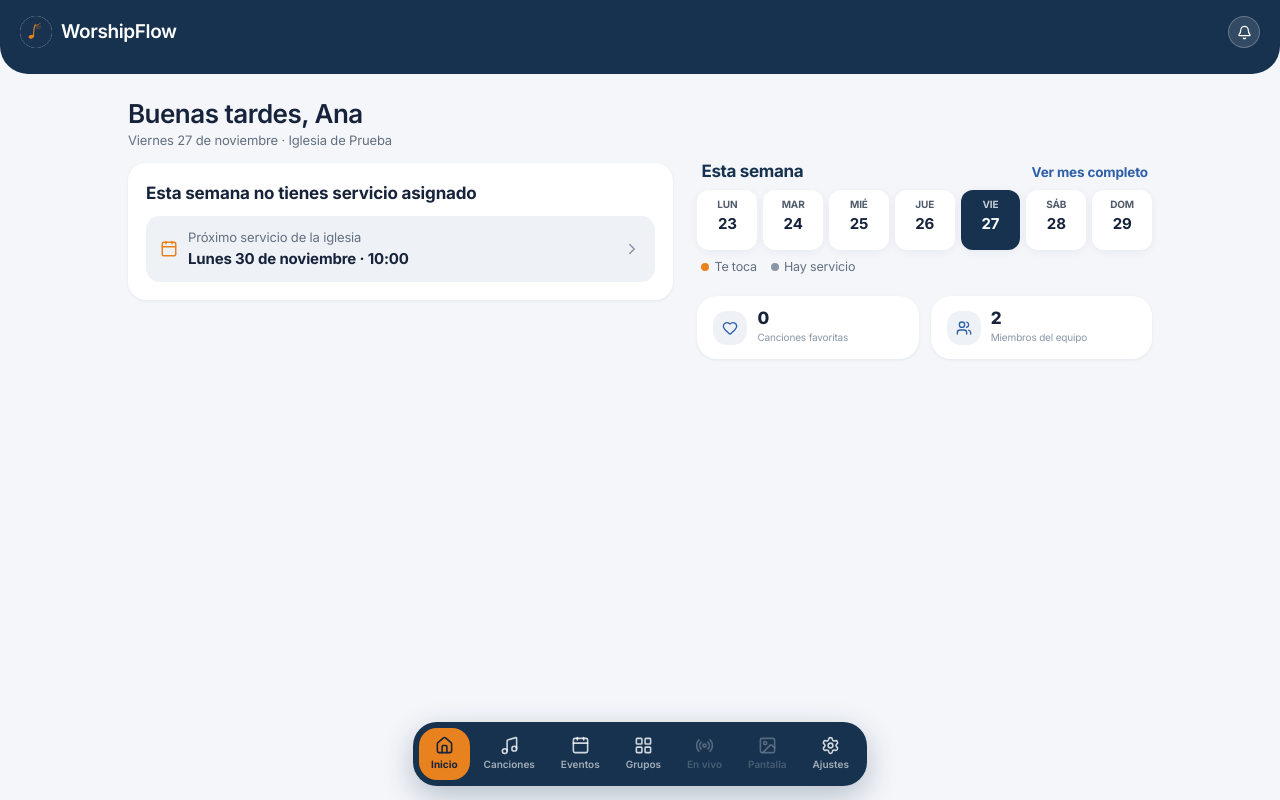
Test: ¿abre la pantalla? › abre una canción
The width and height of the screenshot is (1280, 800).
Expected: the text "Miembros del equipo" is shown, [991,330,1087,345]
Click the button "Canciones".
click(509, 754)  # box [472,728,547,780]
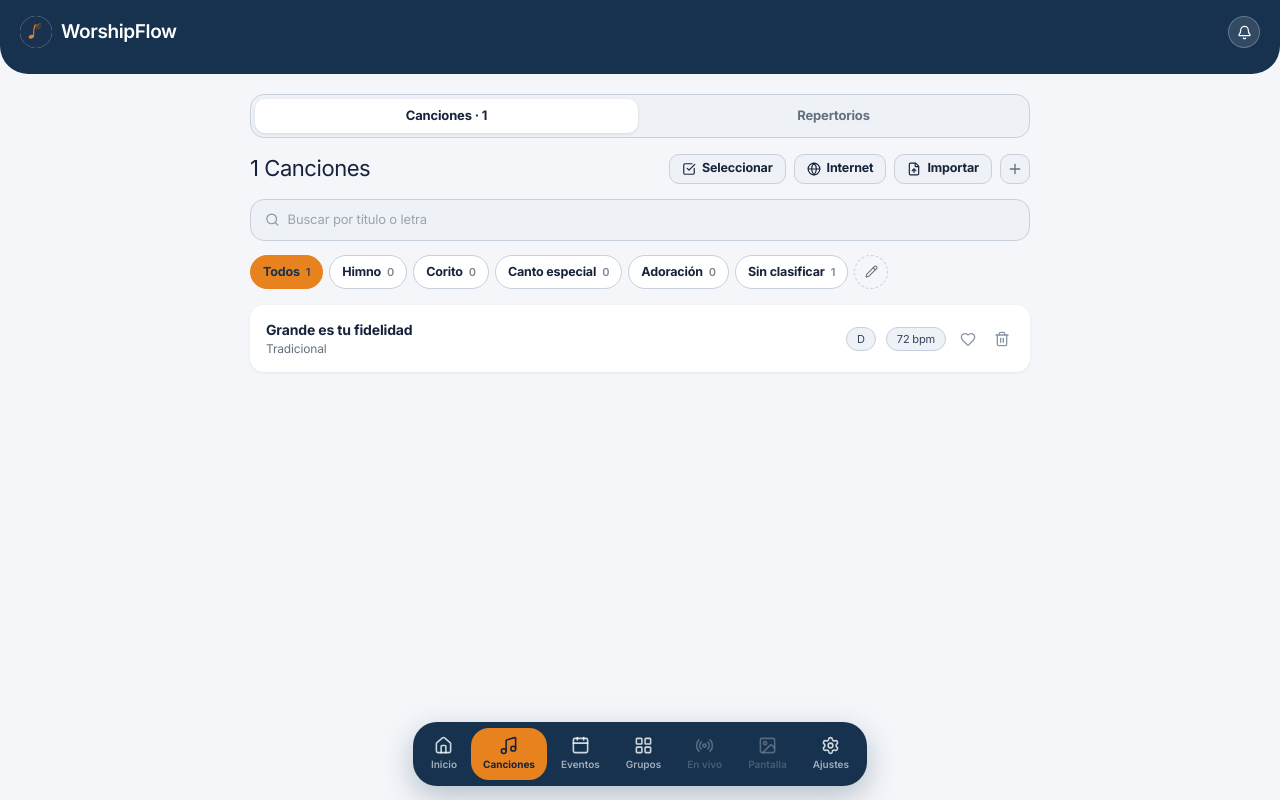
Click the text "Grande es tu fidelidad".
click(339, 330)  # box [266,321,412,338]
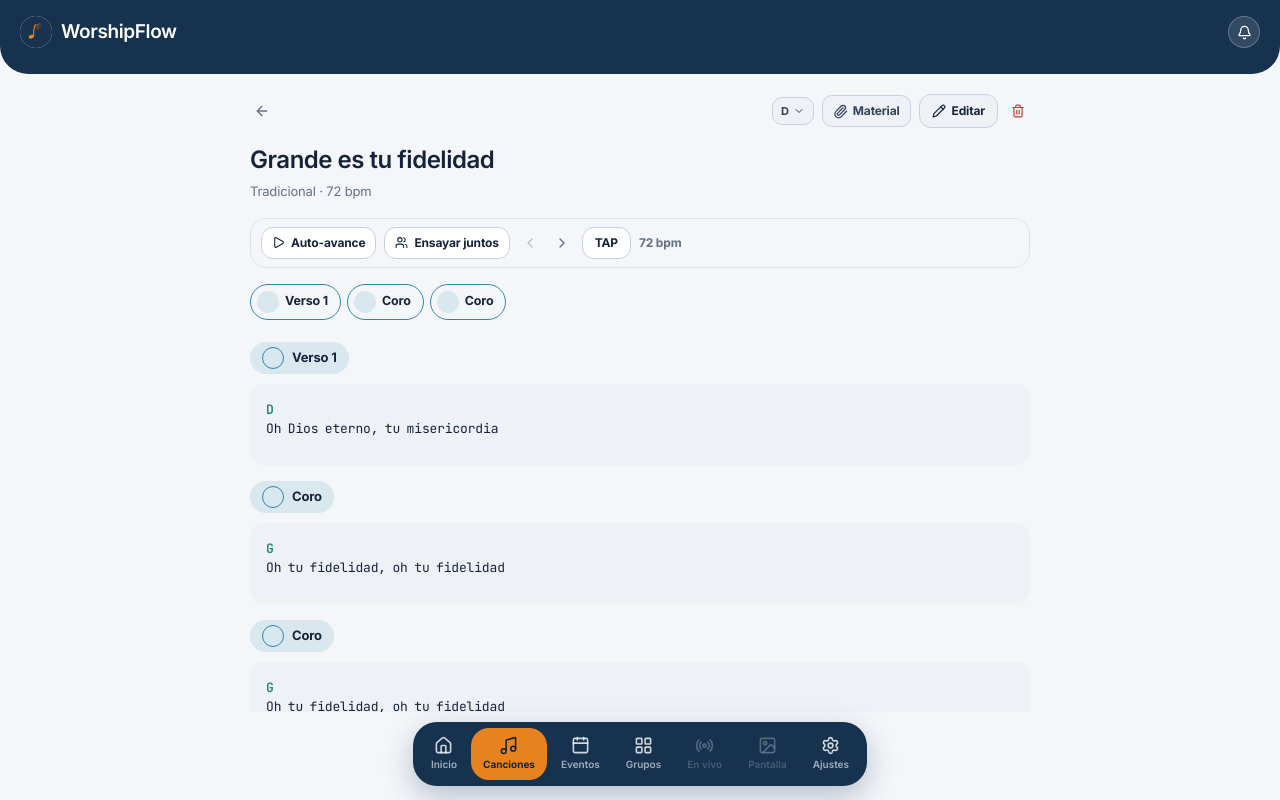
Now the button "Auto-avance" is shown, box [261,226,376,258]
Now the text "Oh Dios eterno, tu misericordia" is shown, box [266,400,498,437]
